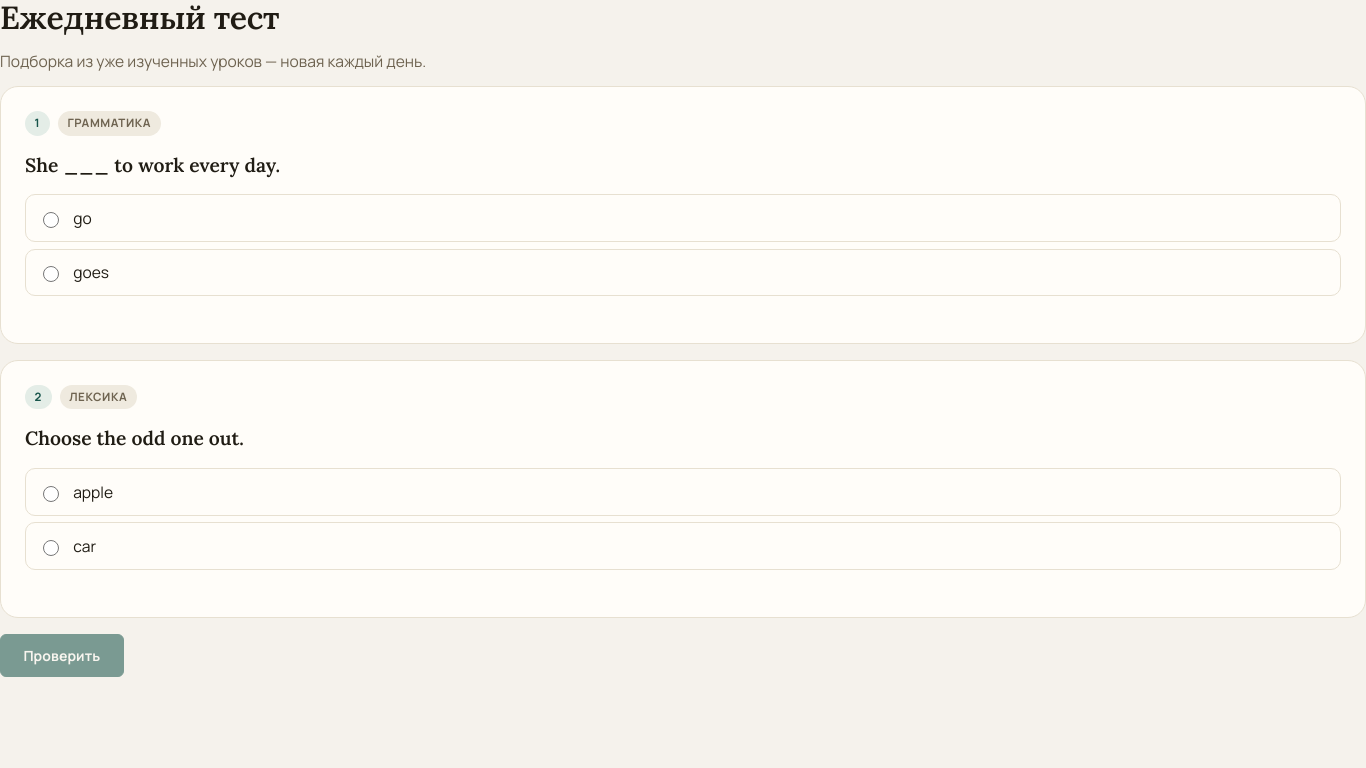
Test: DailyQuizPage › submits every answer once and shows an aggregate result
The image size is (1366, 768).
Click the radio button labelled "goes" at (51, 274), box [43,266,59,282]
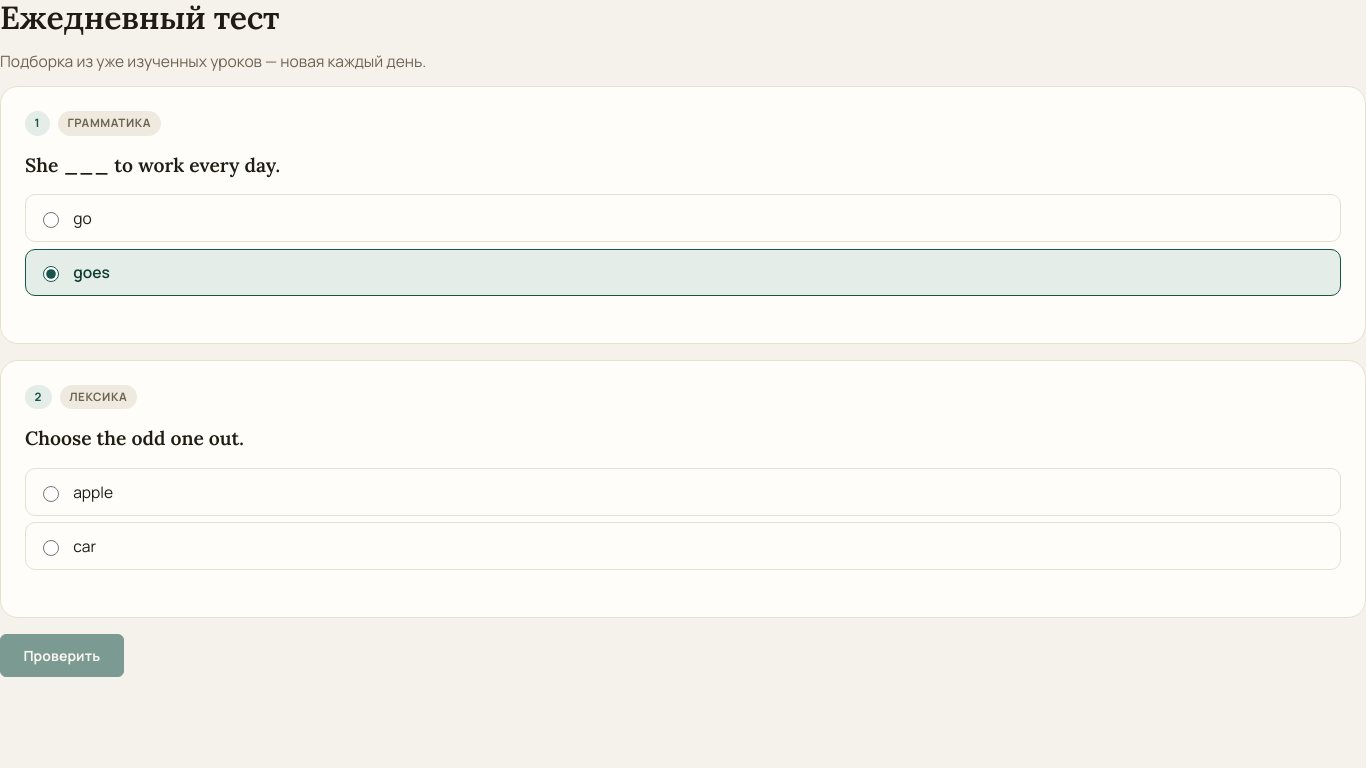
Click the radio button labelled "car" at (51, 548), box [43,540,59,556]
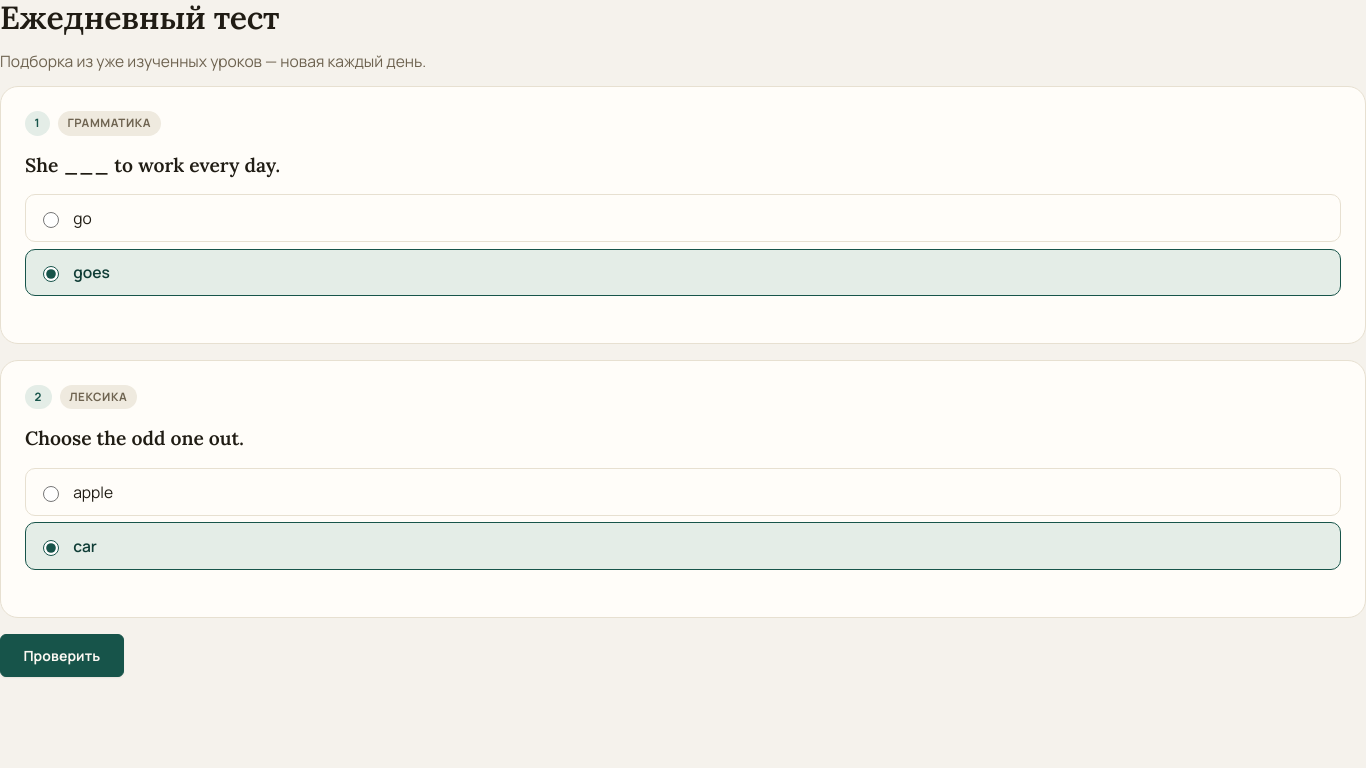
Click the button "Проверить" at (62, 655), box [0,634,124,677]
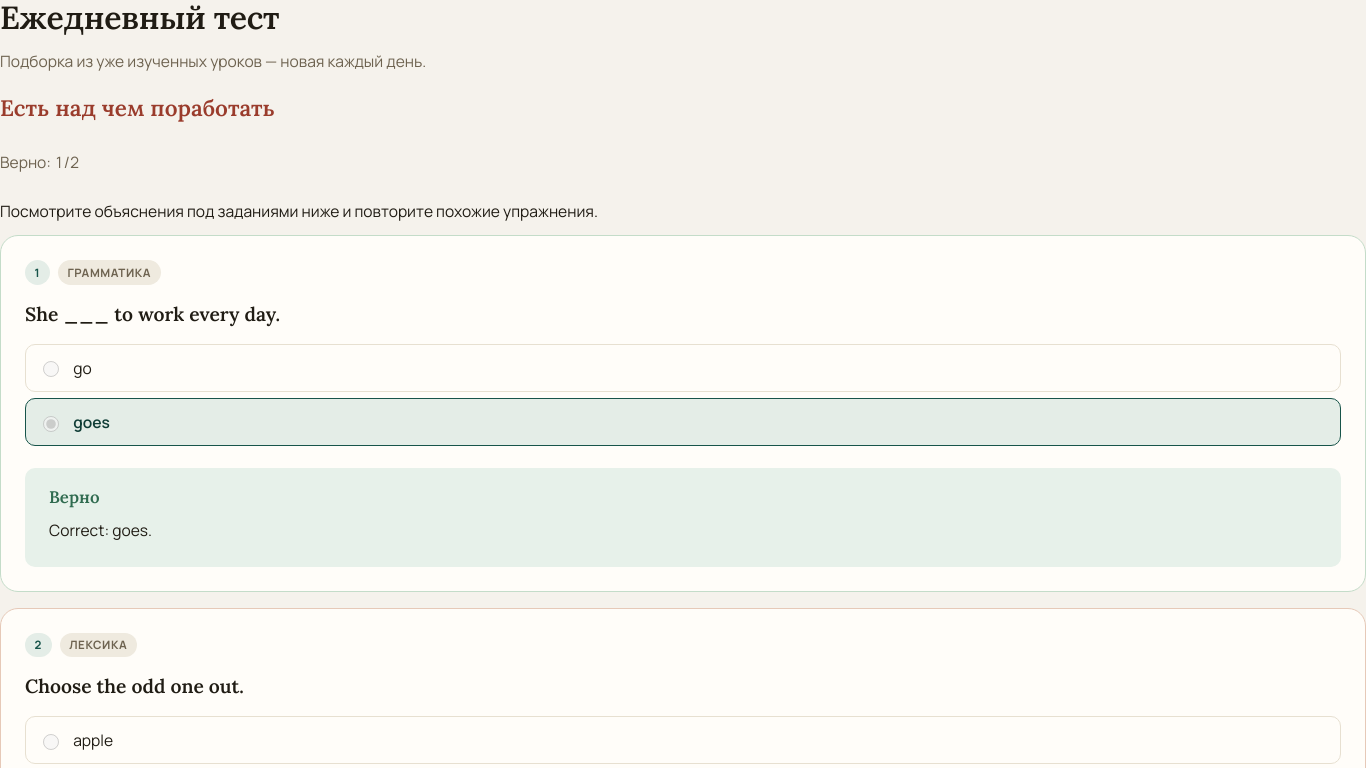
Expected: the text "Верно: 1/2" is shown, [0,150,80,174]
Expected: the button "Проверить" is gone
